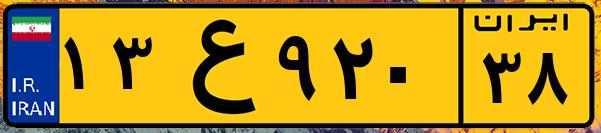0: (385, 28, 445, 110)
1: (57, 26, 110, 100)
2: (330, 28, 385, 110)
3: (475, 38, 525, 113), (110, 28, 158, 98)
8: (525, 38, 570, 115)
9: (270, 28, 330, 110)
ع: (158, 12, 270, 120)
